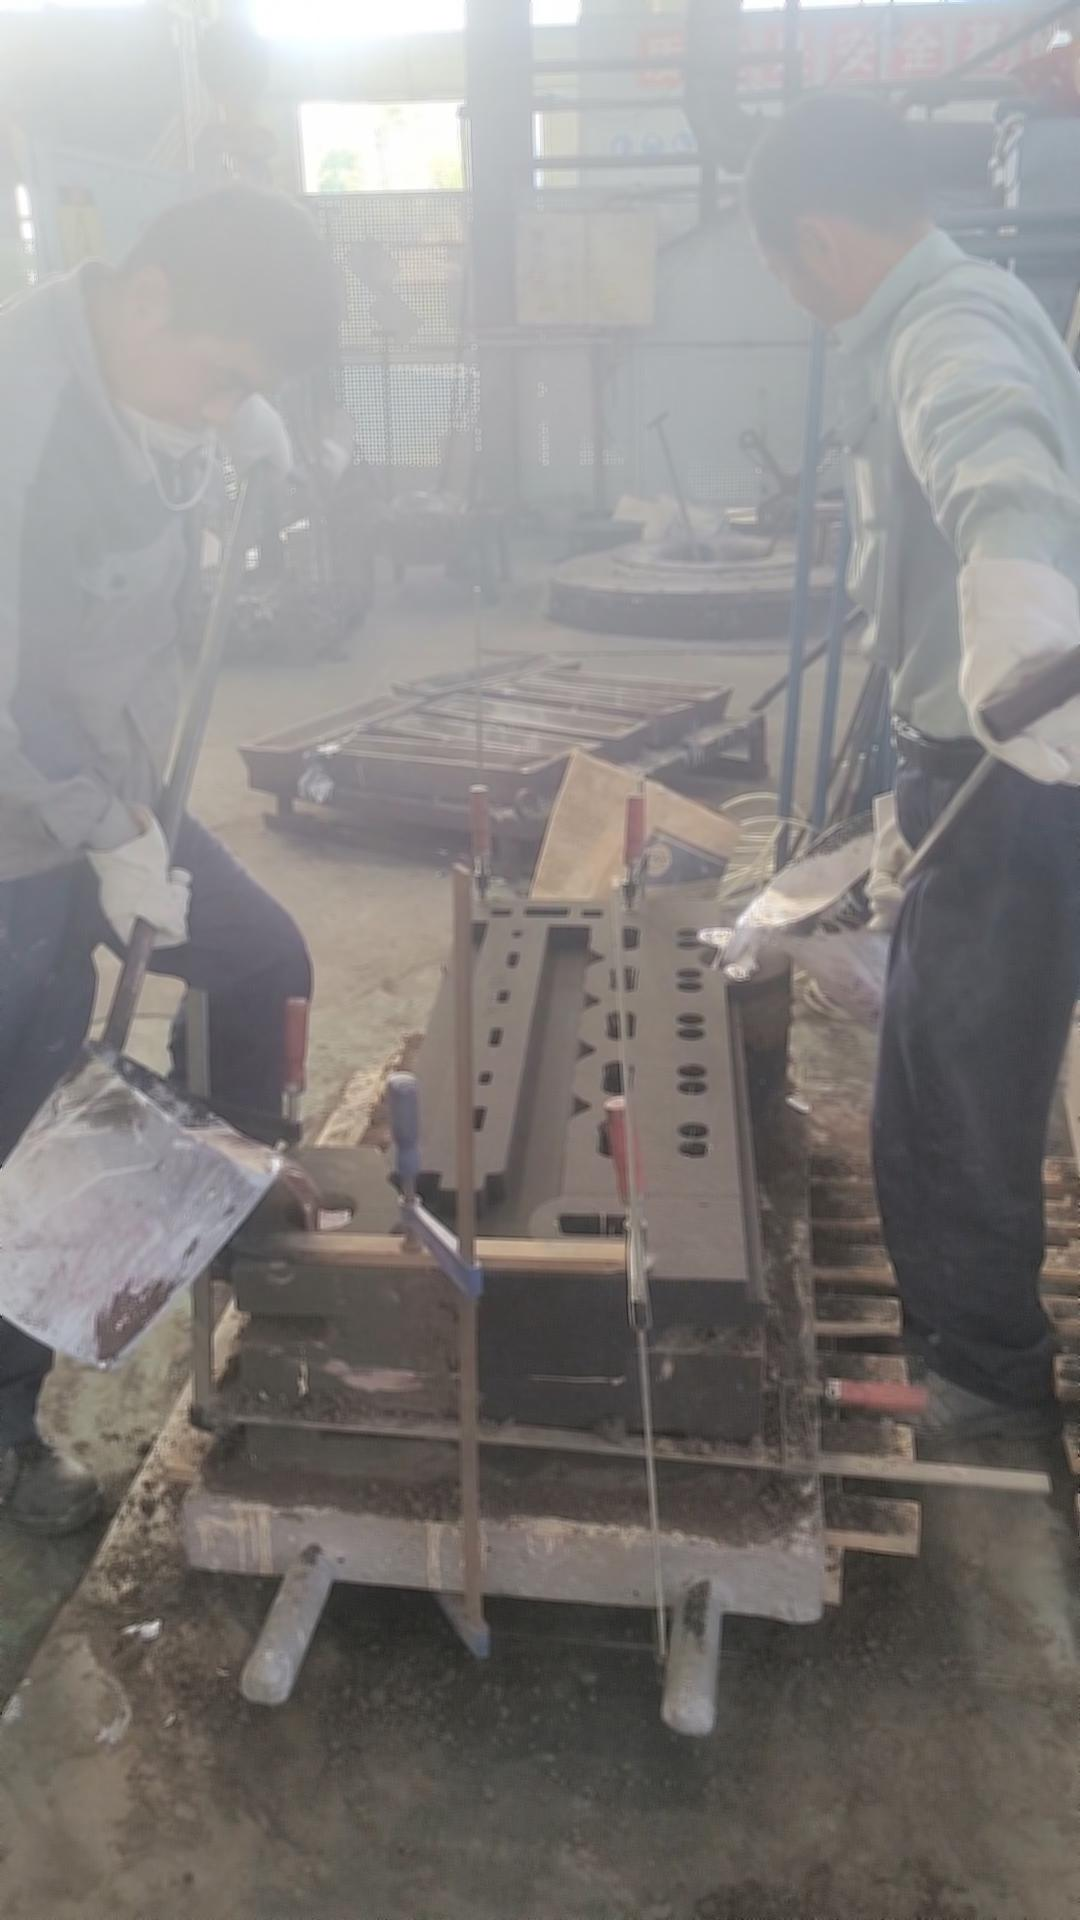pouring hole: (285, 1189, 360, 1228), (698, 945, 749, 971)
